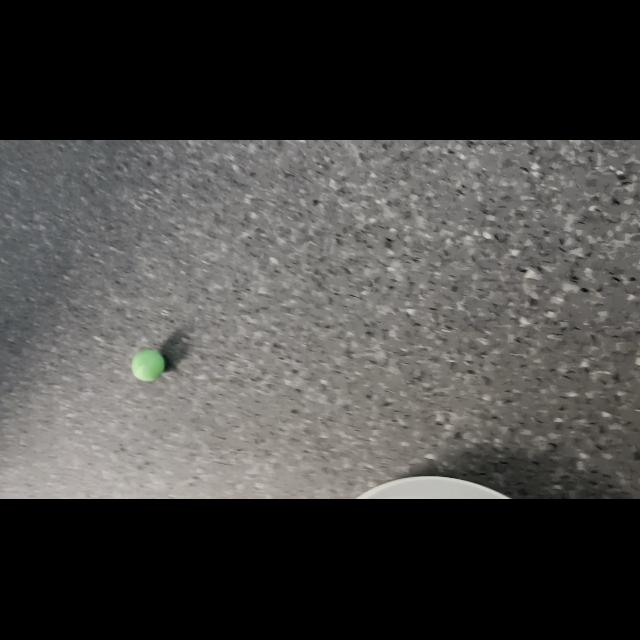objects: (128, 344, 166, 386)
